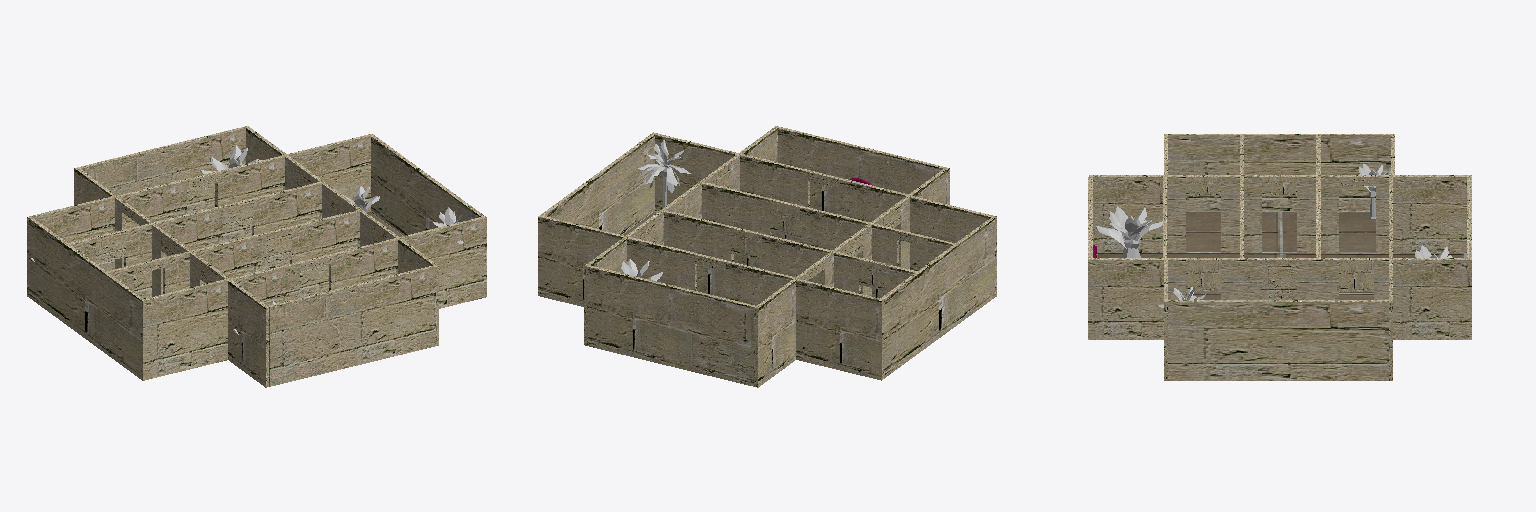
3 views of the same model, side by side, from view 1: azimuth 30°, elevation 25°; view 2: azimuth 150°, elevation 25°; view 3: azimuth 270°, elevation 25° (orthographic).
Parts seen in each view (by area): view 1: Cube.141_Cube.168, Cube.136_Cube.163, Cube.142_Cube.169, Cube.140_Cube.167, Cube.138_Cube.165, Cube.143_Cube.170, Cube.147_Cube.174, Cube.154_Cube.181, Cube.144_Cube.171, Cube.152_Cube.179, Cube.168_Cube.195, Cube.139_Cube.166 (+14 smaller); view 2: Cube.140_Cube.167, Cube.136_Cube.163, Cube.139_Cube.166, Cube.141_Cube.168, Cube.138_Cube.165, Cube.144_Cube.171, Cube.166_Cube.193, Cube.168_Cube.195, Cube.142_Cube.169, Cube.154_Cube.181, Cube.151_Cube.178, Cube.143_Cube.170 (+15 smaller); view 3: Cube.138_Cube.165, Cube.136_Cube.163, Cube.145_Cube.172, Cube.146_Cube.173, Cube.166_Cube.193, Cube.134_Cube.161, Cube.147_Cube.174, Cube.164_Cube.191, Cube.163_Cube.190, Cube.135_Cube.162, Cube.158_Cube.185, Cube.149_Cube.176 (+10 smaller).
Part boxes in pixels (x1,y1,x2,y2): Cube.141_Cube.168: (268, 265, 435, 386); Cube.136_Cube.163: (29, 218, 143, 378); Cube.142_Cube.169: (141, 278, 230, 380); Cube.140_Cube.167: (78, 127, 245, 213); Cube.138_Cube.165: (371, 135, 483, 235); Cube.143_Cube.170: (397, 216, 486, 308); Cube.147_Cube.174: (228, 280, 268, 387); Cube.154_Cube.181: (290, 210, 359, 297); Cube.144_Cube.171: (284, 134, 373, 212); Cube.152_Cube.179: (215, 155, 284, 242); Cube.168_Cube.195: (252, 182, 321, 270); Cube.139_Cube.166: (27, 196, 114, 296); Cube.140_Cube.167: (588, 265, 755, 386); Cube.136_Cube.163: (880, 217, 994, 378); Cube.139_Cube.166: (796, 279, 883, 380); Cube.141_Cube.168: (778, 127, 945, 214); Cube.138_Cube.165: (541, 134, 654, 234); Cube.144_Cube.171: (538, 215, 627, 306); Cube.166_Cube.193: (754, 279, 795, 387); Cube.168_Cube.195: (664, 210, 733, 297); Cube.142_Cube.169: (907, 195, 996, 296); Cube.154_Cube.181: (702, 182, 771, 268); Cube.151_Cube.178: (740, 154, 809, 242); Cube.143_Cube.170: (652, 132, 741, 210); Cube.138_Cube.165: (1168, 300, 1388, 380); Cube.136_Cube.163: (1168, 134, 1390, 210); Cube.145_Cube.172: (1393, 258, 1471, 339); Cube.146_Cube.173: (1088, 258, 1163, 339); Cube.166_Cube.193: (1393, 175, 1471, 252); Cube.134_Cube.161: (1186, 211, 1375, 252); Cube.147_Cube.174: (1089, 175, 1163, 252); Cube.164_Cube.191: (1297, 175, 1338, 252); Cube.163_Cube.190: (1221, 175, 1261, 252); Cube.135_Cube.162: (1096, 253, 1466, 299); Cube.158_Cube.185: (1297, 258, 1338, 299); Cube.149_Cube.176: (1221, 258, 1261, 299).
Size of the model in its own units: 32.07 by 7.67 by 30.77.
Materials: 5 (3 with a texture image).